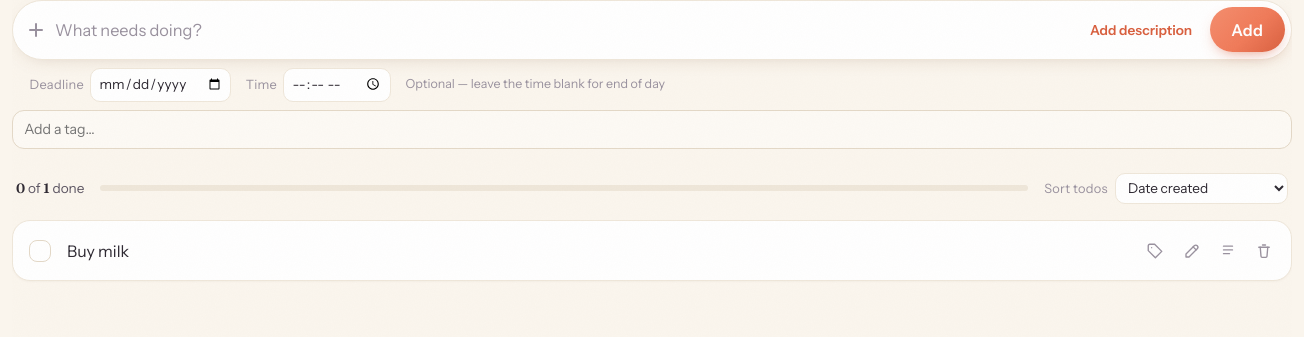
Test case: TodoApp edit › cancels on Escape without saving
The width and height of the screenshot is (1304, 337).
Step 1. Click the button named "Edit \"Buy milk\"" → (1192, 251), box [1175,234,1209,268]
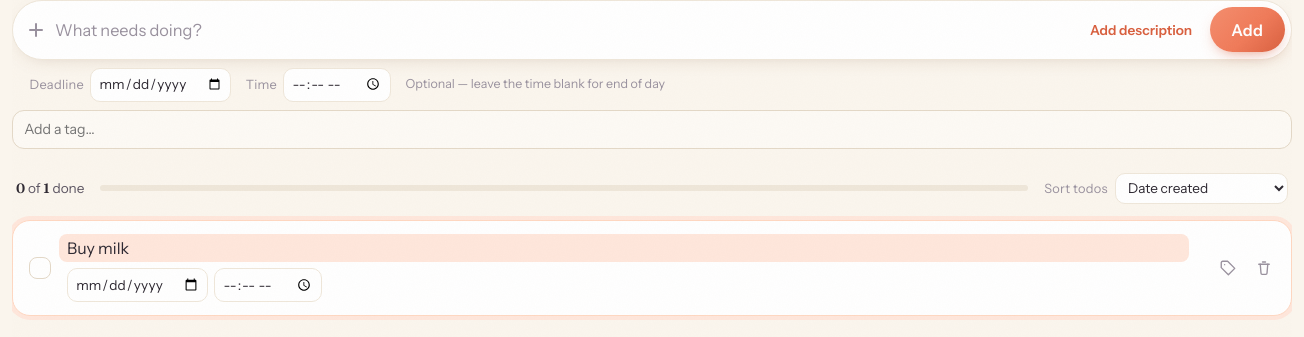
Step 2. Replace the text in the field named "Edit todo title" with "Something else" → (624, 248), box [59,234,1189,262]
Then press Escape
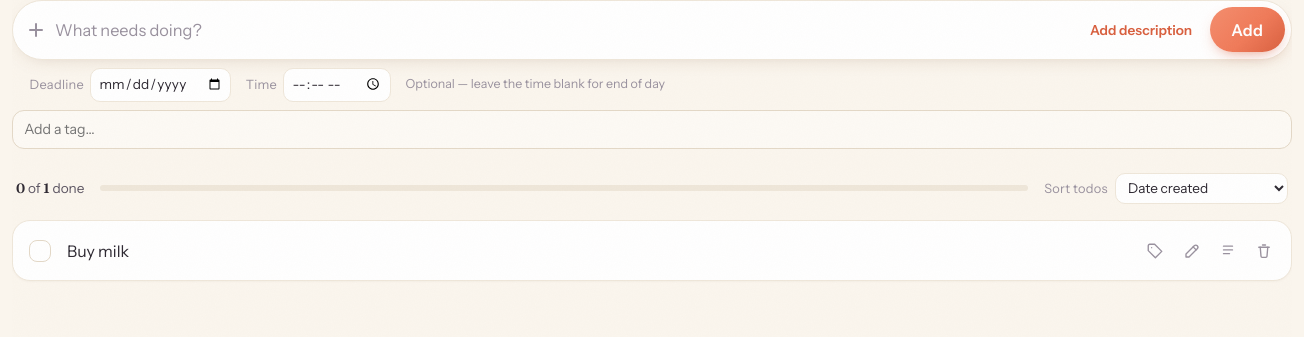
Result: the text "Buy milk" is shown at [67,239,129,263]
